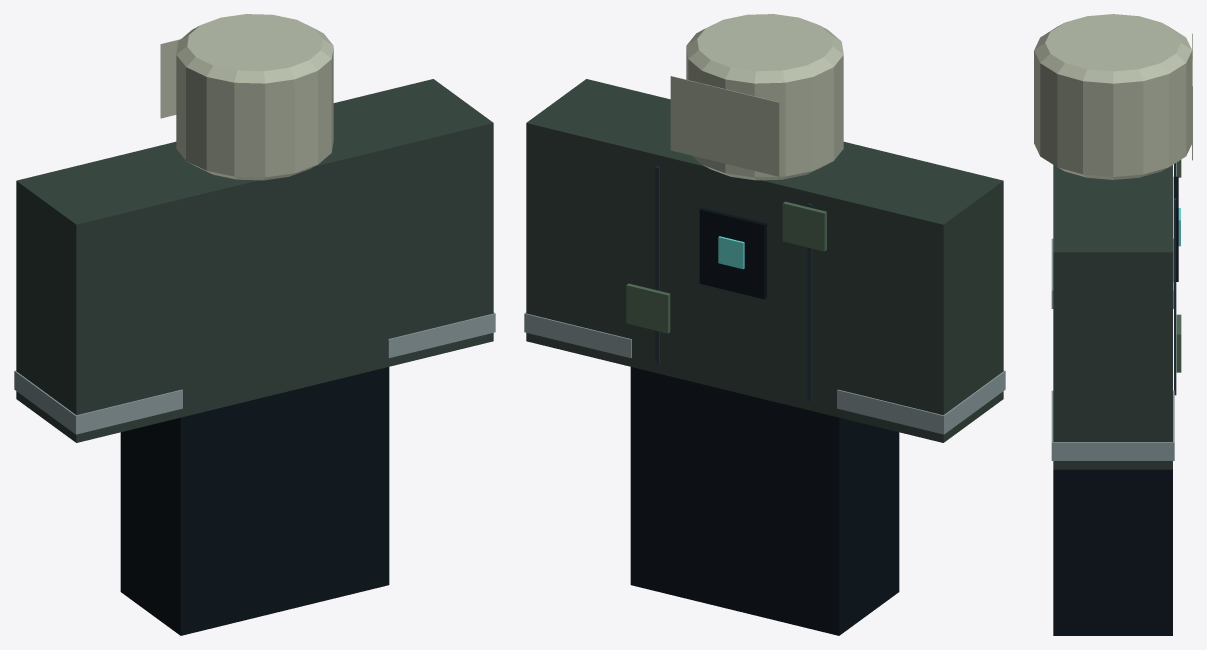
File: UnlistedForest.obj
The picture shows the model from 3 angles, left to right: view 1: azimuth 30°, elevation 25°; view 2: azimuth 150°, elevation 25°; view 3: azimuth 270°, elevation 25°; orthographic projection.
Parts seen in each view (by area): view 1: Torso, Left Arm, Left Leg, Right Arm, Head, Right Leg, Face; view 2: Torso, Left Arm, Left Leg, Right Arm, Right Leg, Head, Face; view 3: Right Arm, Head, Right Leg, Torso, Left Arm.
Part boxes in pixels (left/top/right/bottom): Torso: left=121, top=108, right=389, bottom=417; Left Arm: left=14, top=155, right=182, bottom=442; Left Leg: left=120, top=392, right=284, bottom=635; Right Arm: left=333, top=79, right=495, bottom=366; Head: left=176, top=14, right=333, bottom=180; Right Leg: left=285, top=367, right=389, bottom=610; Face: left=160, top=39, right=180, bottom=118; Torso: left=626, top=119, right=898, bottom=417; Left Arm: left=837, top=155, right=1005, bottom=442; Left Leg: left=735, top=392, right=899, bottom=635; Right Arm: left=524, top=79, right=670, bottom=366; Right Leg: left=630, top=367, right=734, bottom=610; Head: left=686, top=14, right=843, bottom=180; Face: left=670, top=76, right=779, bottom=176; Right Arm: left=1051, top=202, right=1174, bottom=469; Head: left=1034, top=14, right=1192, bottom=179; Right Leg: left=1053, top=469, right=1172, bottom=635; Torso: left=1053, top=160, right=1181, bottom=395; Left Arm: left=1051, top=238, right=1173, bottom=308.
Size of the model in its own units: 4.03 by 5 by 1.33.
